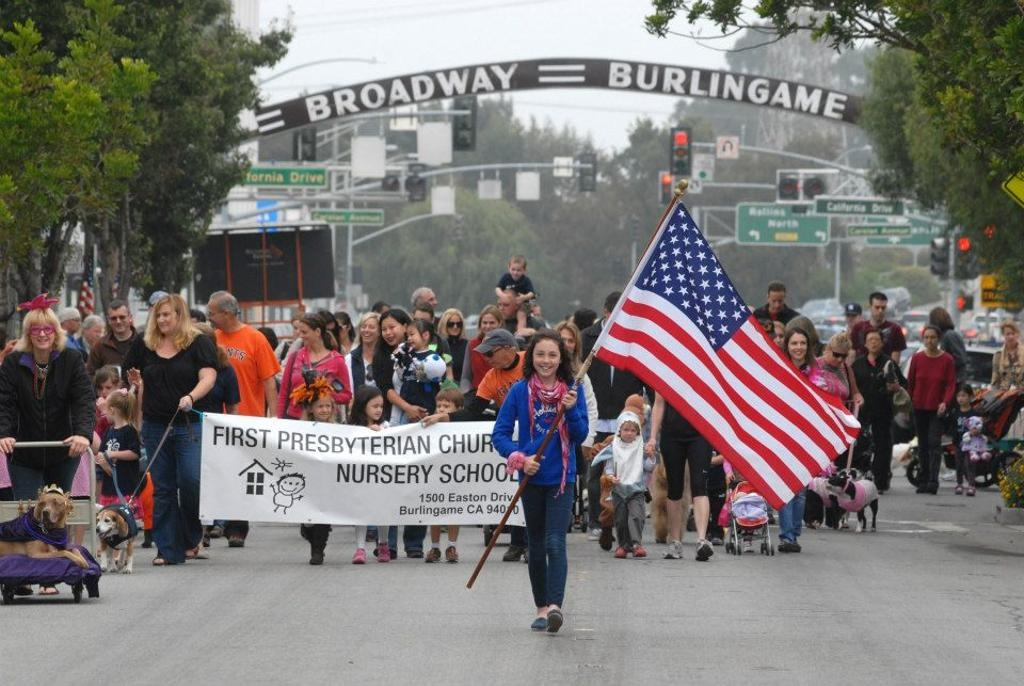human_face: (532, 340, 560, 374), (28, 318, 54, 348), (481, 342, 509, 368), (380, 316, 402, 344), (156, 303, 176, 333), (108, 308, 128, 332), (206, 298, 222, 328), (311, 394, 331, 418), (358, 316, 378, 340), (788, 333, 806, 359), (365, 395, 383, 420), (558, 331, 576, 355), (434, 398, 454, 418), (299, 320, 315, 344), (98, 378, 114, 402), (406, 325, 422, 349), (498, 294, 514, 318), (480, 314, 498, 334), (828, 348, 848, 366), (769, 326, 785, 348), (871, 298, 887, 320), (413, 310, 431, 328), (620, 420, 636, 440), (769, 290, 785, 310), (87, 323, 103, 341), (420, 292, 436, 310), (1002, 326, 1018, 344), (446, 315, 460, 335), (333, 319, 347, 338), (866, 333, 880, 351), (922, 328, 936, 346), (66, 315, 80, 331), (376, 306, 390, 322), (293, 320, 305, 338), (104, 401, 114, 422), (323, 323, 335, 340), (510, 262, 522, 278), (846, 310, 858, 324), (956, 392, 968, 404), (968, 420, 976, 432), (532, 306, 540, 316)
